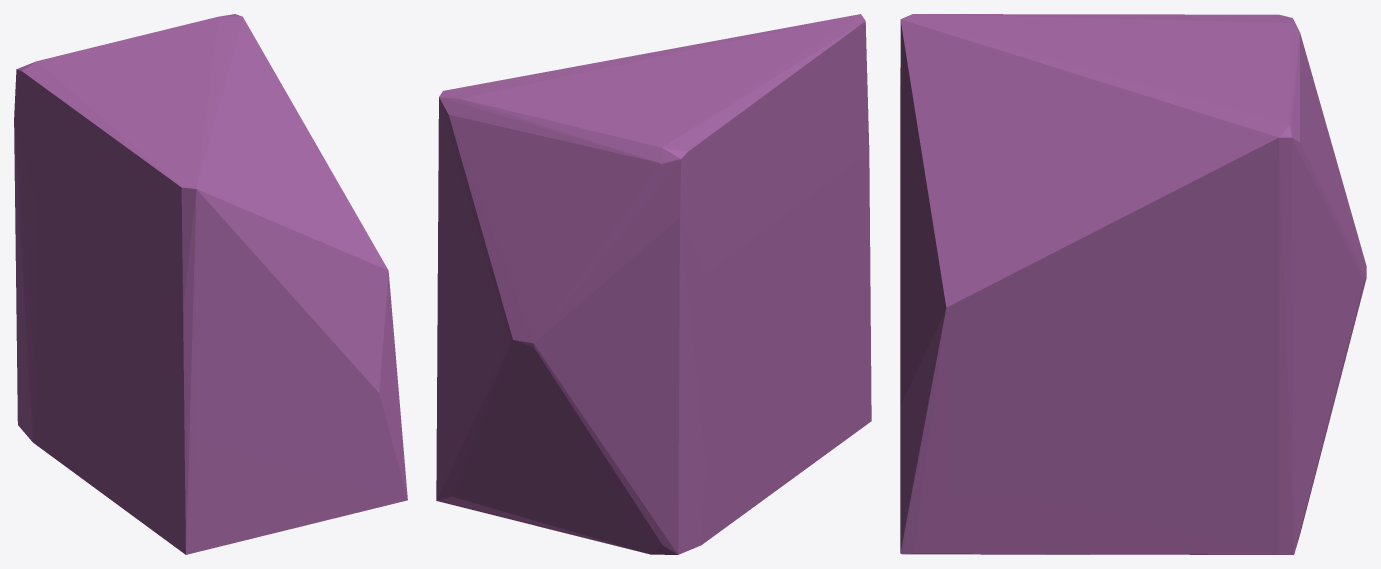
File: Xray_machine_HVgenerator_a01.glb
3 views of the same model, side by side, from view 1: azimuth 30°, elevation 25°; view 2: azimuth 150°, elevation 25°; view 3: azimuth 270°, elevation 25° (orthographic). The views are drawn at different scales.
Visible parts, largest first — view 1: geometry_0; view 2: geometry_0; view 3: geometry_0.
Part boxes in pixels (left/top/right/bottom): geometry_0: left=14, top=14, right=407, bottom=554; geometry_0: left=436, top=14, right=871, bottom=554; geometry_0: left=900, top=14, right=1366, bottom=554.
Size of the model in its own units: 0.3034 by 0.4762 by 0.48.
